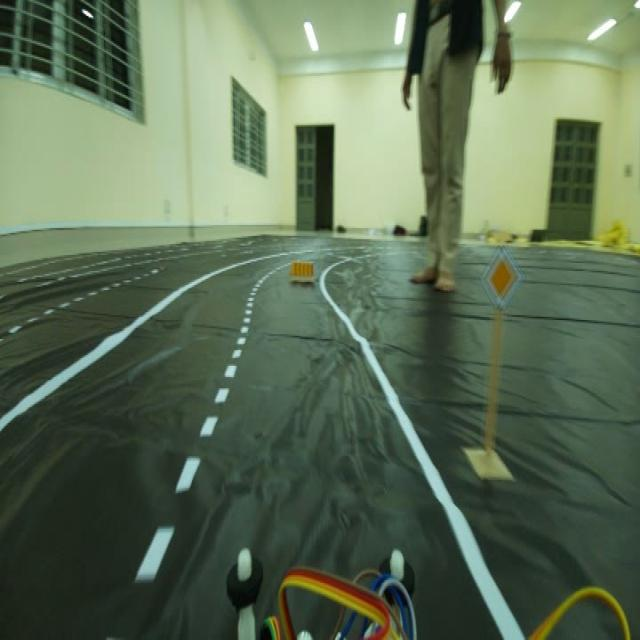priority: (485, 239, 521, 312)
roadblock: (286, 246, 318, 292)
